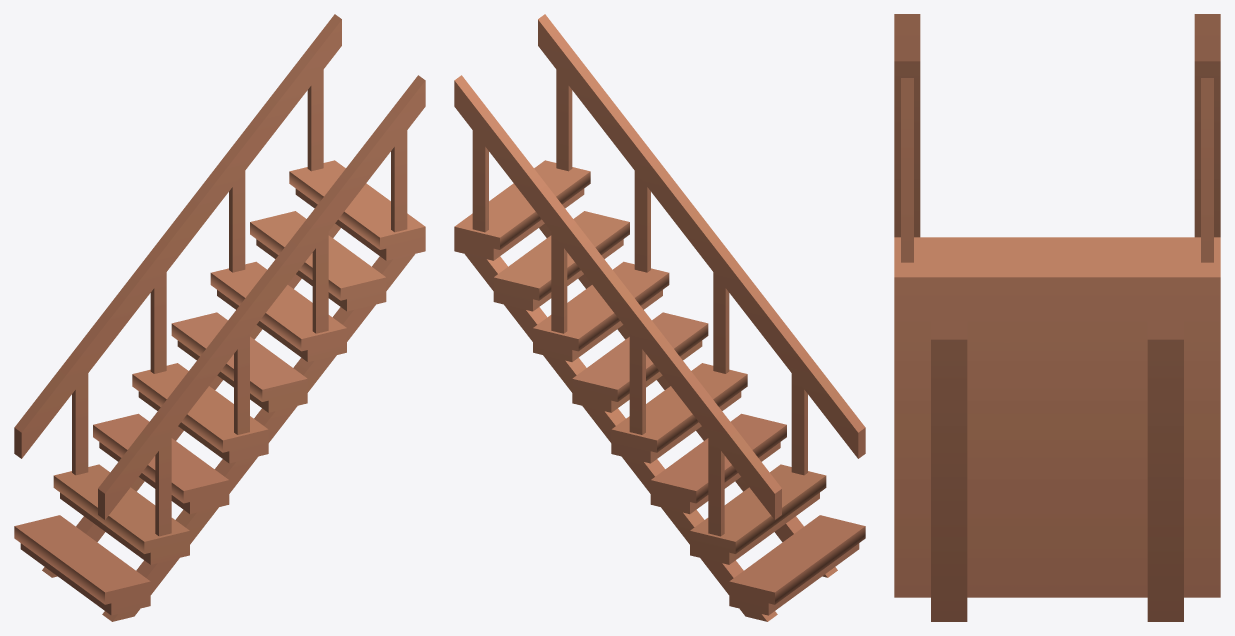
Rendered from stairs-wood-handrail.glb.
3 renders of one model, left to right at view 1: azimuth 30°, elevation 25°; view 2: azimuth 150°, elevation 25°; view 3: azimuth 270°, elevation 25°, orthographic. The views are drawn at different scales.
Parts seen in each view (by area): view 1: stairs-wood-handrail; view 2: stairs-wood-handrail; view 3: stairs-wood-handrail.
Part boxes in pixels (left/top/right/bottom): stairs-wood-handrail: left=14, top=14, right=425, bottom=621; stairs-wood-handrail: left=454, top=14, right=865, bottom=621; stairs-wood-handrail: left=894, top=14, right=1220, bottom=621.
Bounding box in the file's own units: 1.02 × 1.45 × 0.5.
Materials: 1 (1 with a texture image).
